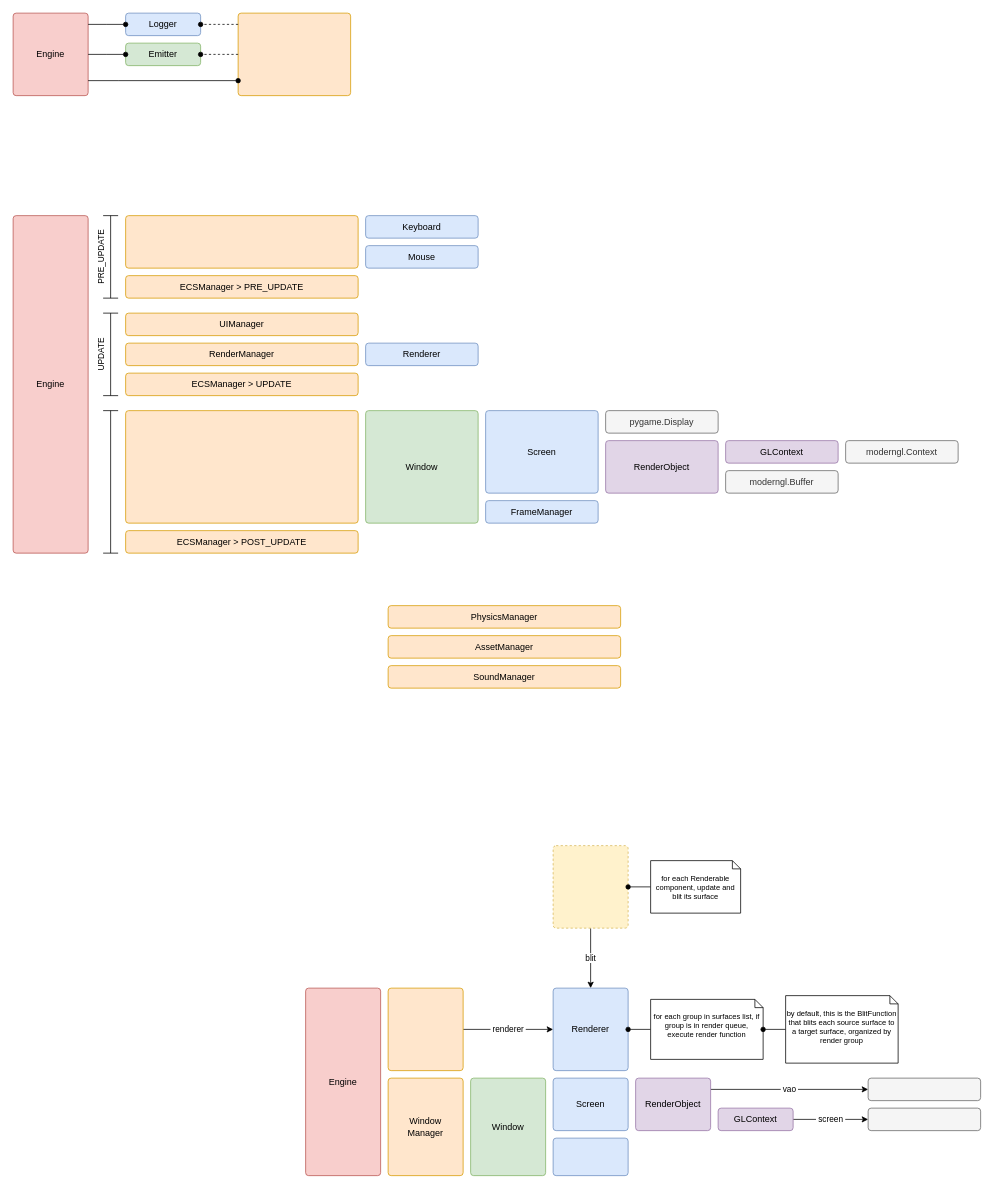
Image size: 994x1189. Some labels were removed from this diagram. Each missing label, with the centre of its shape:
"EngineComponent" goes at pixel 294 54.
"Frame Manager" goes at pixel 590 1156.
"InputManager" goes at pixel 241 241.
"moderngl.FrameBuffer" goes at pixel 924 1119.
"moderngl.VertexArray" goes at pixel 924 1089.
"POST_UPDATE" goes at pixel 110 481.
"Render Manager" goes at pixel 425 1029.
"Render System" goes at pixel 590 886.
"WindowManager" goes at pixel 241 466.
